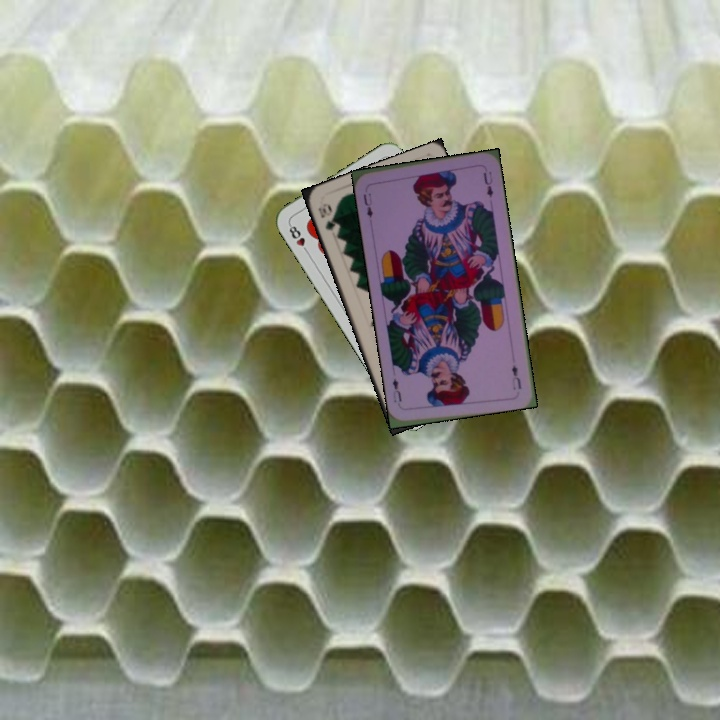EU: (507, 361, 524, 392), (359, 189, 375, 220)
G10: (314, 199, 338, 234)
H8: (285, 220, 312, 256)
